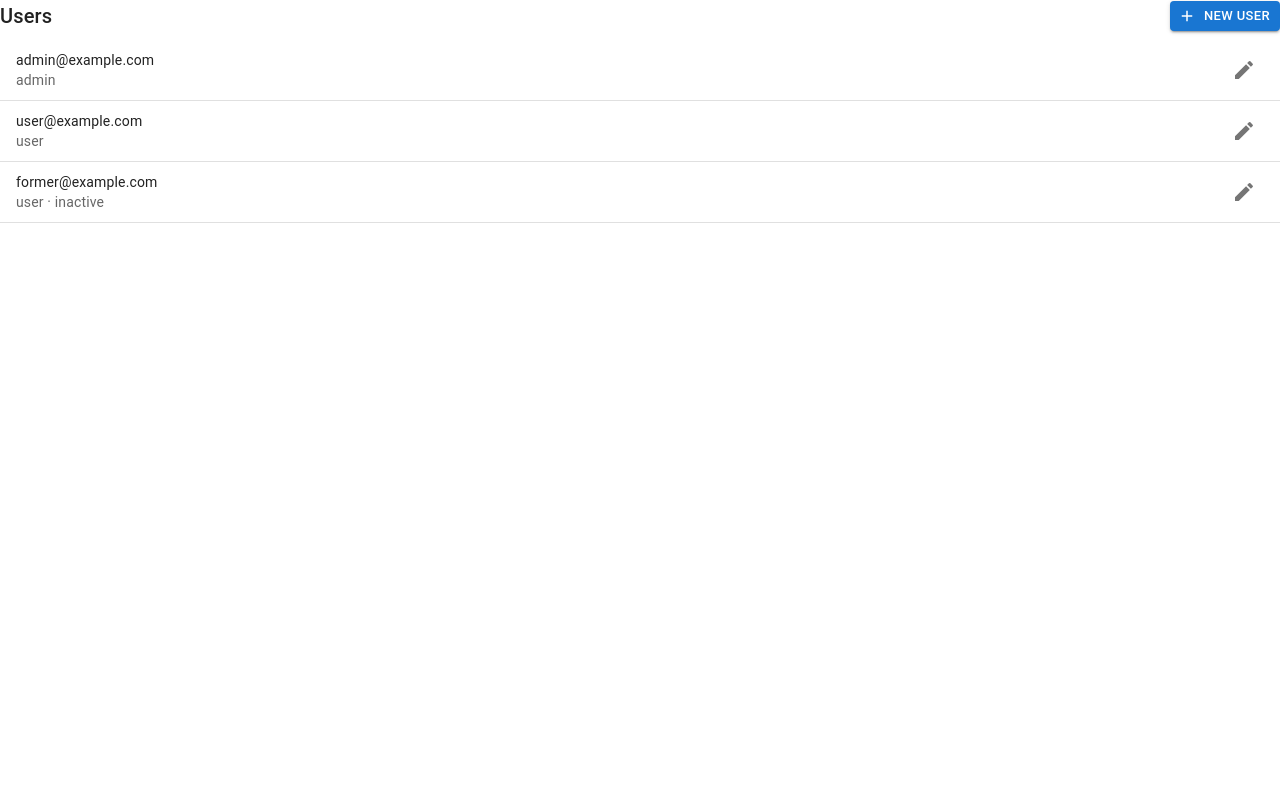
Test: UsersAdmin › edits another user, keeping the password when left blank
Check: the text "user@example.com" is shown, box [16,113,142,129]
Click the button named "Edit" in the row of "user@example.com". click: (1244, 131)
box: [1224,111,1264,151]
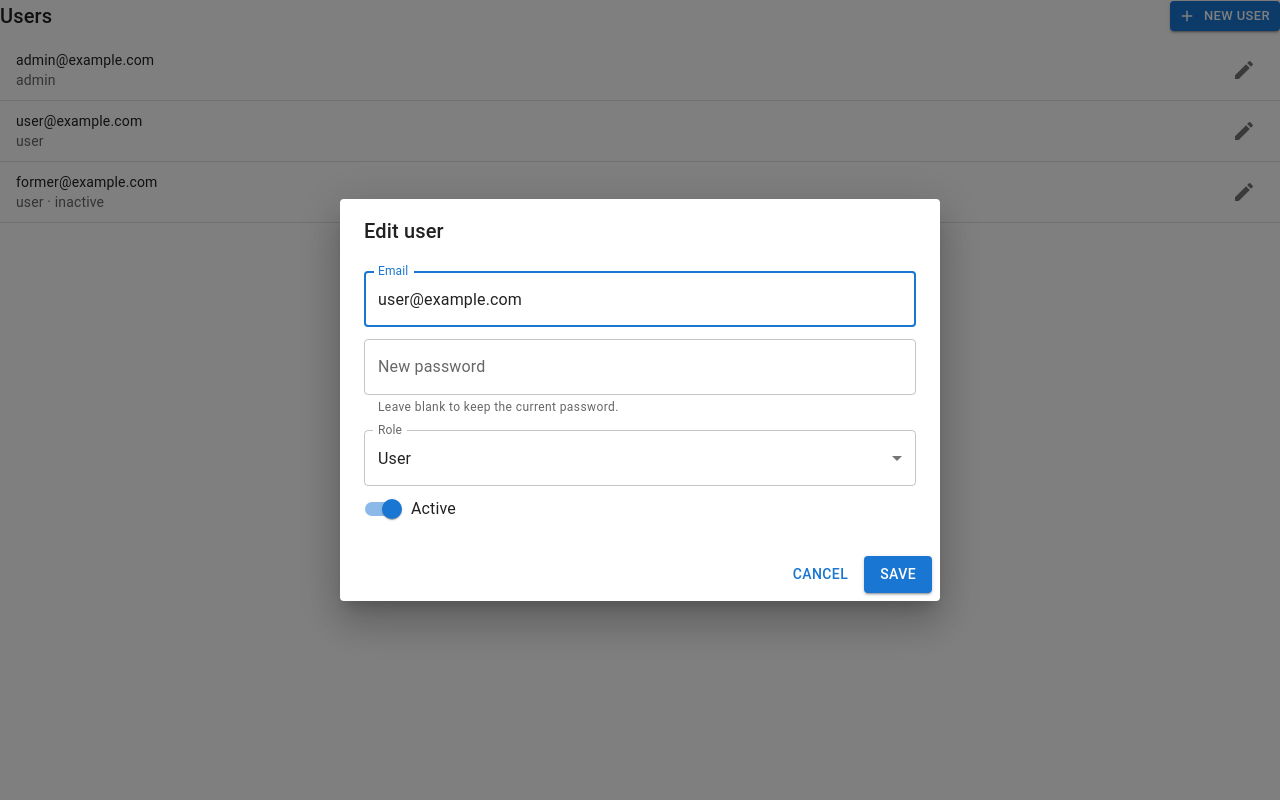
Check: the heading "Edit user" is shown, box [364,219,444,243]
Check: the field labelled "Email" holds "user@example.com", box [364,271,916,327]
Check: the password field labelled "New password" is empty, box [364,339,916,395]
Click the button "Save". click: (898, 574)
box: [864,556,932,593]
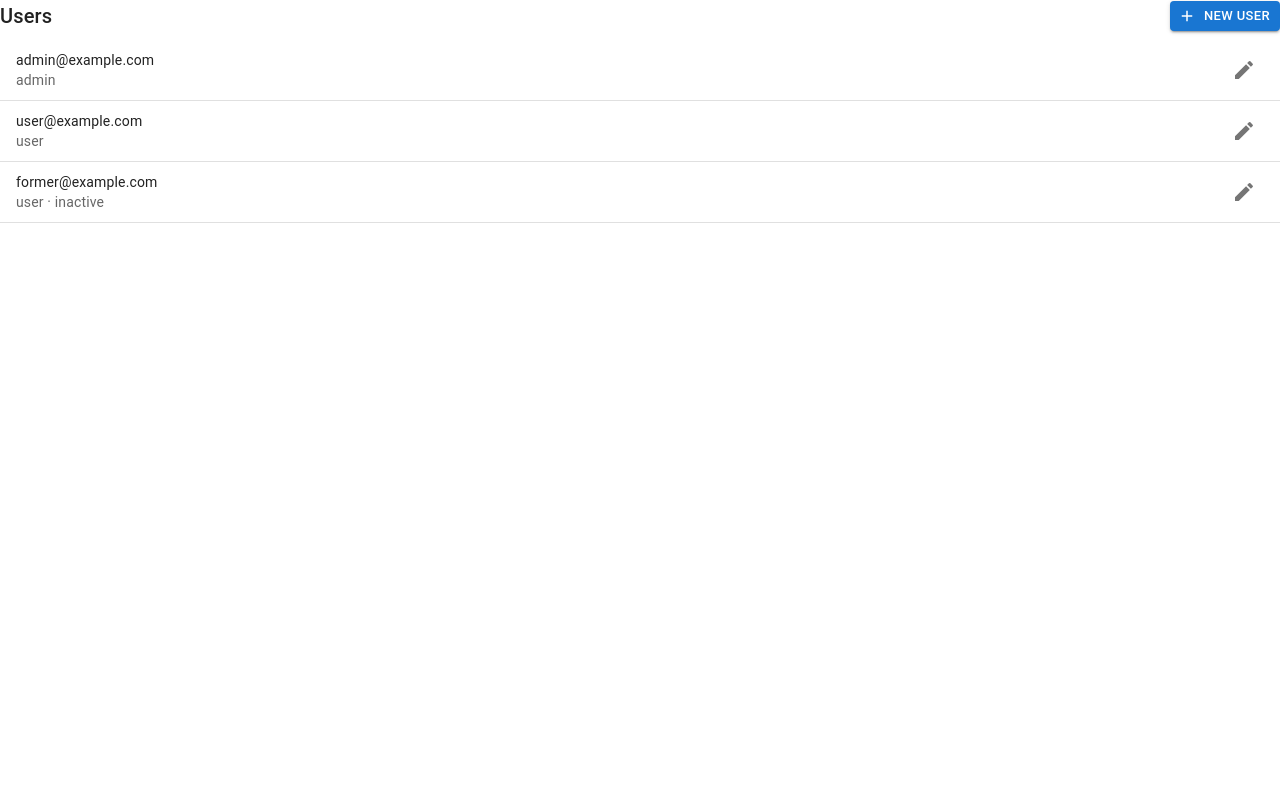
Check: the dialog is gone
